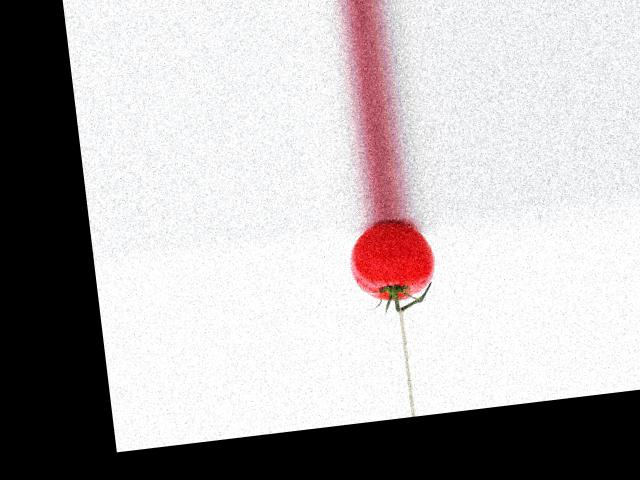tomato: (344, 217, 437, 304)
